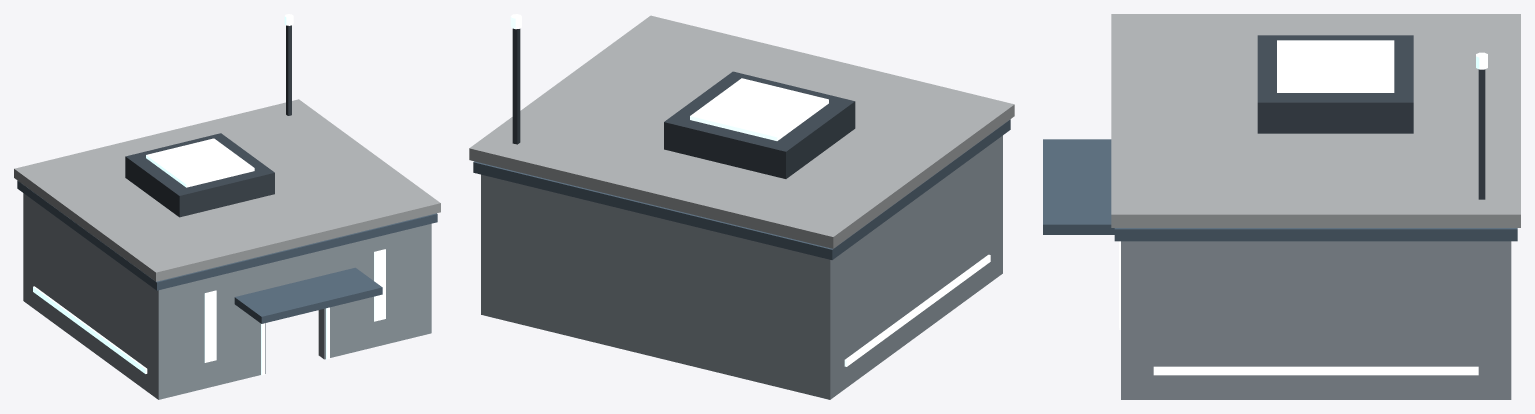
Rendered from shaddai_dist_arctic_b2_v01.glb.
3 views of the same model, side by side, from view 1: azimuth 30°, elevation 25°; view 2: azimuth 150°, elevation 25°; view 3: azimuth 270°, elevation 25° (orthographic). The views are drawn at different scales.
Visible parts, largest first — view 1: shaddai_dist_arctic_b2; view 2: shaddai_dist_arctic_b2; view 3: shaddai_dist_arctic_b2.
Part boxes in pixels (x1,y1,x2,y2): shaddai_dist_arctic_b2: (14,14,440,399); shaddai_dist_arctic_b2: (469,14,1014,399); shaddai_dist_arctic_b2: (1043,14,1520,399).
Bounding box in the file's own units: 14.6 × 11.28 × 14.7.
